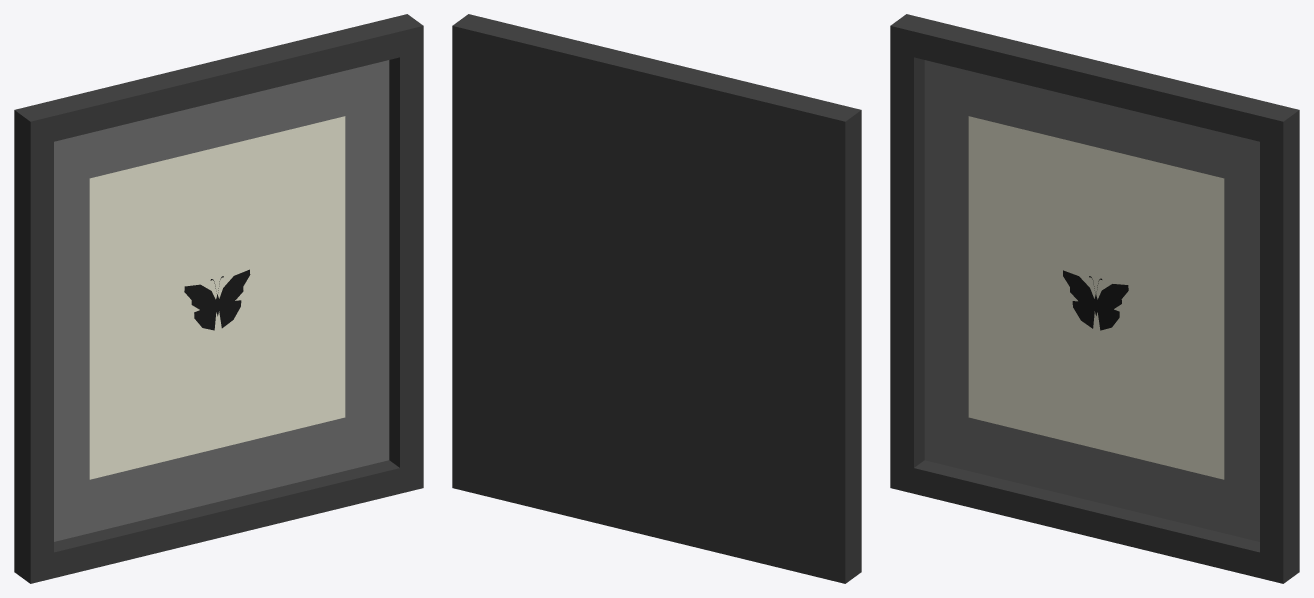
File: picture_048.glb
The picture shows the model from 3 angles, left to right: view 1: azimuth 30°, elevation 25°; view 2: azimuth 150°, elevation 25°; view 3: azimuth 330°, elevation 25°; orthographic projection.
Visible parts, largest first — view 1: picture_048; view 2: picture_048; view 3: picture_048.
Part boxes in pixels (x1,y1,x2,y2): picture_048: (14, 14, 423, 583); picture_048: (452, 14, 861, 583); picture_048: (890, 14, 1299, 583).
Size of the model in its own units: 0.5537 by 0.6221 by 0.0395.
Materials: 1 (1 with a texture image).
